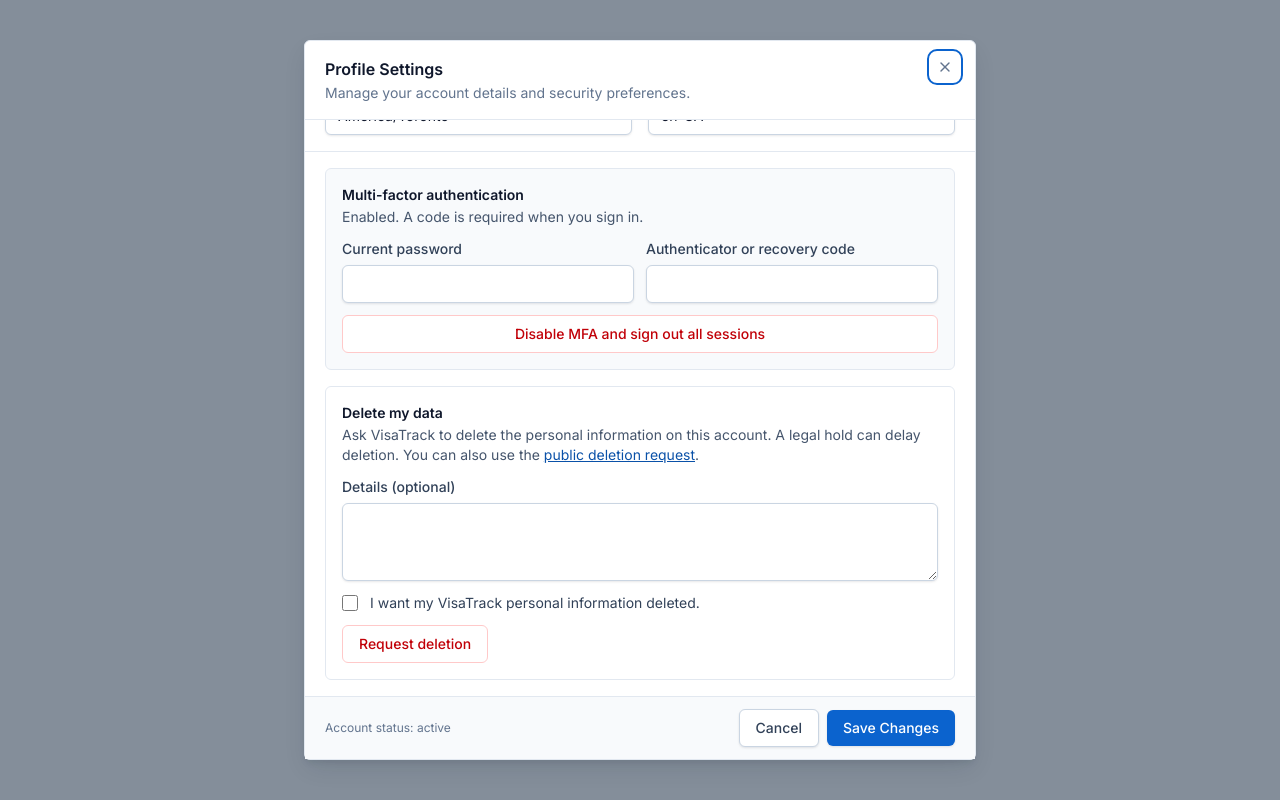
Test case: ProfileSettingsDialog data deletion › CT-PROFILE-08: requires confirmation before requesting deletion
(page scrolled)
What coordinates should you click on to do the following:
click the button "Request deletion"
I would click on:
 (415, 644)
Its box is [342,625,488,663].
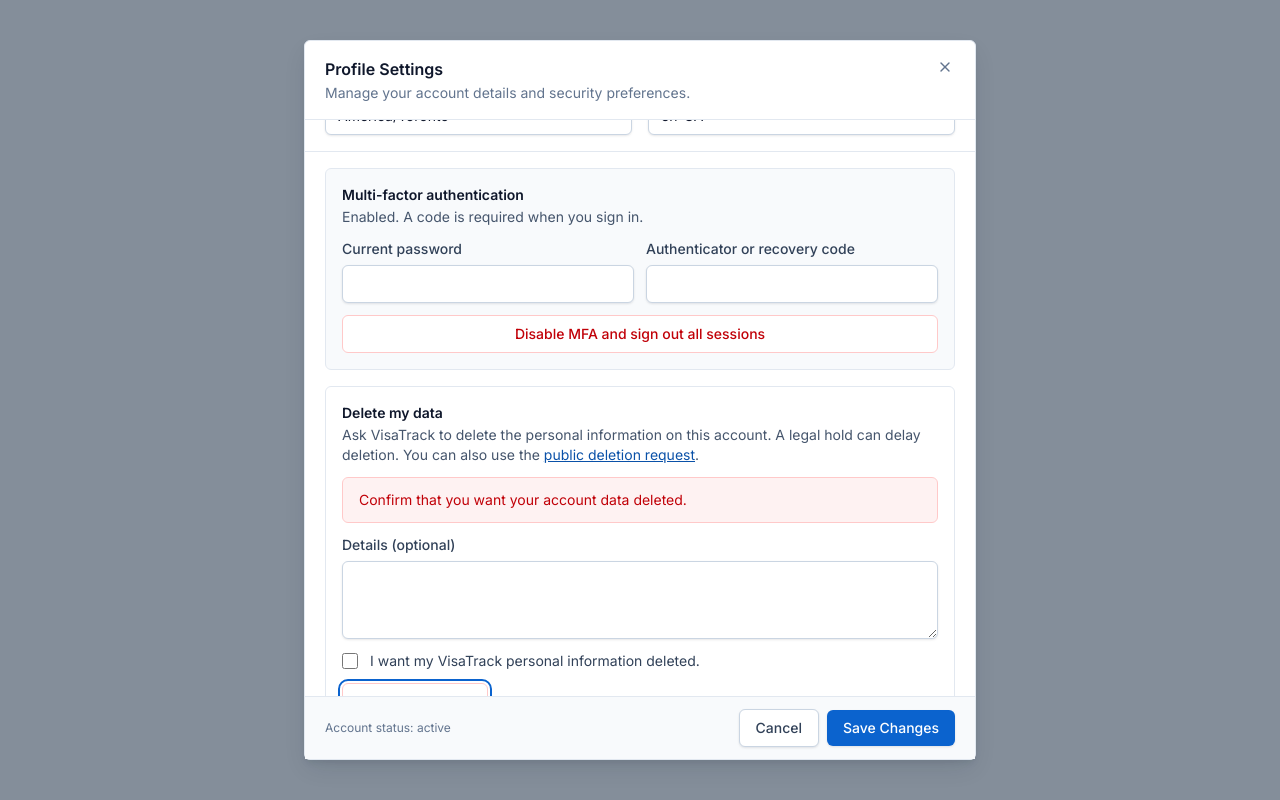
Check: the message reads "Confirm that you want your account data deleted.", box [359,491,687,508]
